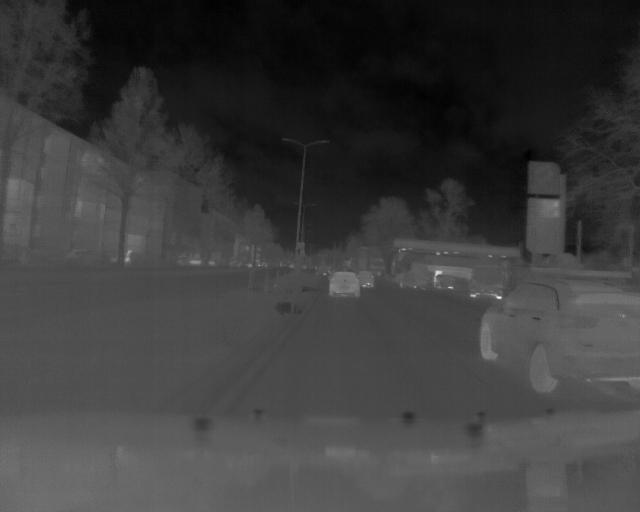car: (481, 278, 640, 395), (328, 271, 361, 300)
